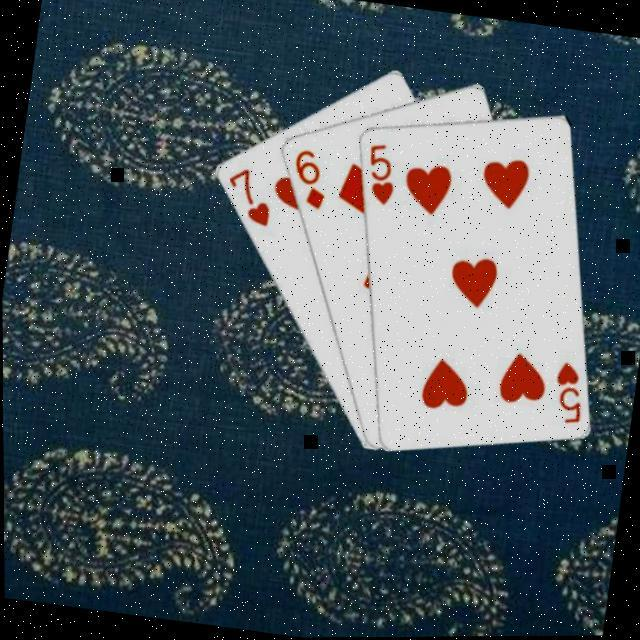5H: (548, 356, 592, 427), (361, 138, 404, 208)
6D: (286, 142, 336, 212)
7H: (220, 160, 280, 230)
